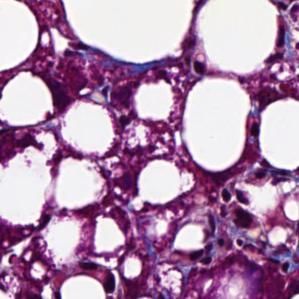inflammation: (217, 187, 255, 233), (78, 256, 119, 293), (262, 49, 296, 81)
